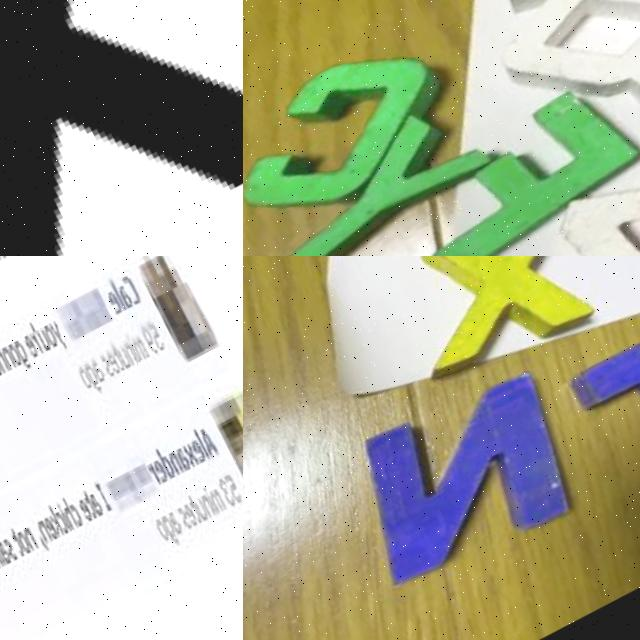1: (146, 316, 170, 347), (224, 465, 243, 502)
5: (138, 319, 164, 352)
A: (197, 419, 224, 454), (174, 438, 200, 470), (88, 485, 112, 516), (0, 532, 20, 565), (116, 277, 137, 305), (90, 353, 111, 380), (169, 505, 190, 532), (0, 348, 7, 375)
C: (243, 18, 466, 247), (120, 267, 145, 301), (57, 506, 76, 532), (72, 499, 91, 523)
D: (155, 439, 182, 476)
E: (102, 282, 128, 313), (183, 497, 207, 527), (44, 509, 67, 540), (78, 491, 101, 521), (153, 452, 176, 480), (22, 329, 43, 357), (106, 346, 125, 371), (193, 434, 212, 458)
F: (405, 68, 640, 256)
G: (83, 357, 109, 392), (163, 509, 188, 544), (12, 334, 37, 368)
H: (60, 493, 84, 525)
I: (96, 476, 118, 508), (202, 479, 224, 510), (124, 327, 145, 358), (57, 498, 78, 529)
K: (45, 498, 71, 534)
L: (109, 274, 129, 304), (194, 423, 214, 453), (0, 530, 14, 564)
M: (210, 482, 232, 507), (132, 331, 153, 357), (0, 541, 10, 567)
N: (328, 350, 608, 603), (168, 445, 190, 472), (122, 337, 143, 365), (38, 514, 59, 542), (24, 520, 45, 548), (1, 341, 22, 368), (202, 489, 221, 514), (0, 344, 14, 372)
O: (42, 318, 63, 346), (77, 359, 98, 387), (6, 338, 27, 365), (157, 512, 176, 539), (19, 527, 38, 552)
Q: (470, 0, 640, 156)
R: (148, 456, 165, 482), (29, 328, 47, 352)
S: (3, 531, 27, 562), (100, 349, 119, 375), (179, 501, 198, 527)
T: (557, 300, 640, 510), (108, 336, 131, 369), (11, 523, 32, 555), (83, 485, 104, 516), (190, 491, 210, 520)
U: (36, 323, 55, 349), (195, 493, 215, 517), (117, 342, 136, 366)
X: (0, 0, 243, 256), (377, 256, 632, 394), (182, 435, 207, 466)
Y: (243, 95, 507, 256), (48, 315, 73, 348)
Z: (481, 132, 640, 256)
